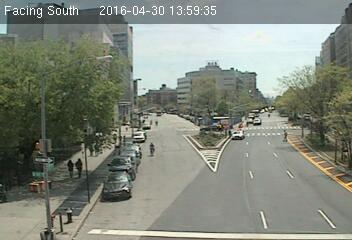neg: (167, 68, 208, 122), (226, 42, 255, 81), (225, 190, 252, 226), (14, 139, 39, 173), (290, 171, 315, 204), (294, 73, 318, 105), (74, 60, 98, 91), (23, 64, 46, 95), (194, 165, 217, 196), (138, 40, 157, 66), (111, 164, 130, 189), (156, 185, 174, 210), (70, 115, 88, 139), (228, 134, 245, 157), (59, 203, 75, 225), (119, 122, 134, 142)
pos: (74, 156, 90, 177), (59, 157, 73, 176), (144, 140, 158, 159), (276, 126, 290, 144)
